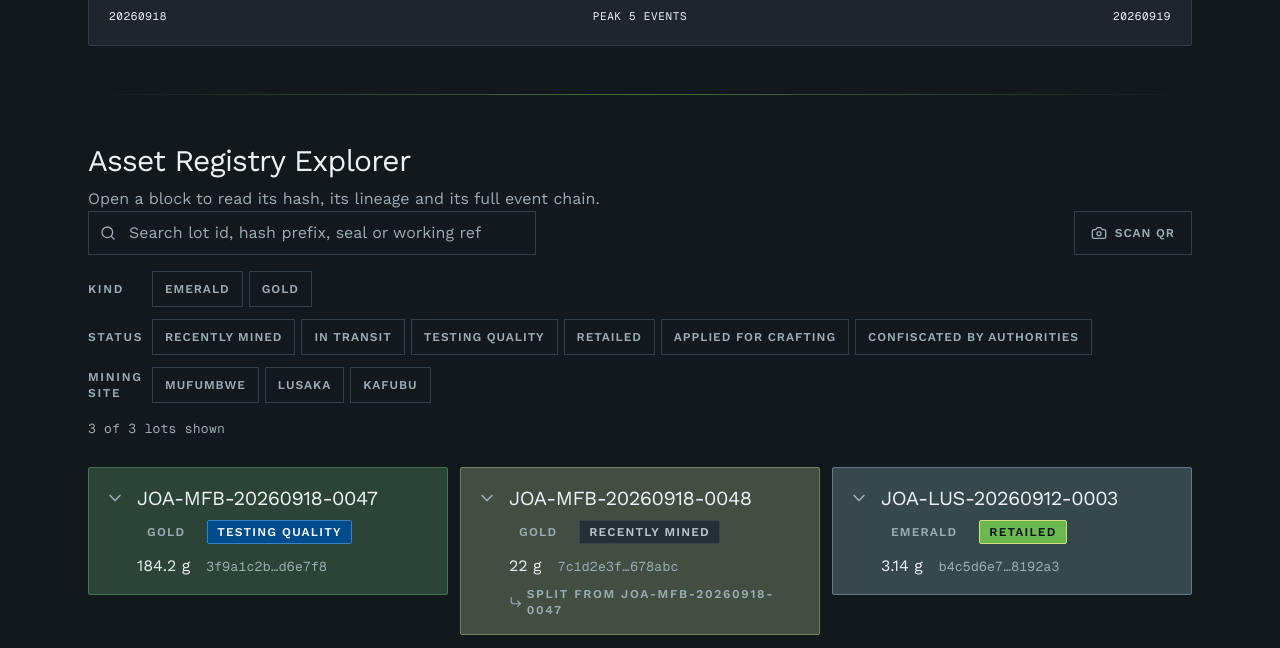
it: Library home page › clears an active chip when it is clicked a second time
This screenshot has width=1280, height=648.
(page scrolled)
Check: the text "JOA-MFB-20260918-0047" is shown, box [137,484,377,512]
Click the button with test id "register.filter.type.emerald" at {"x": 197, "y": 288}, box [152,270,243,306]
(page scrolled)
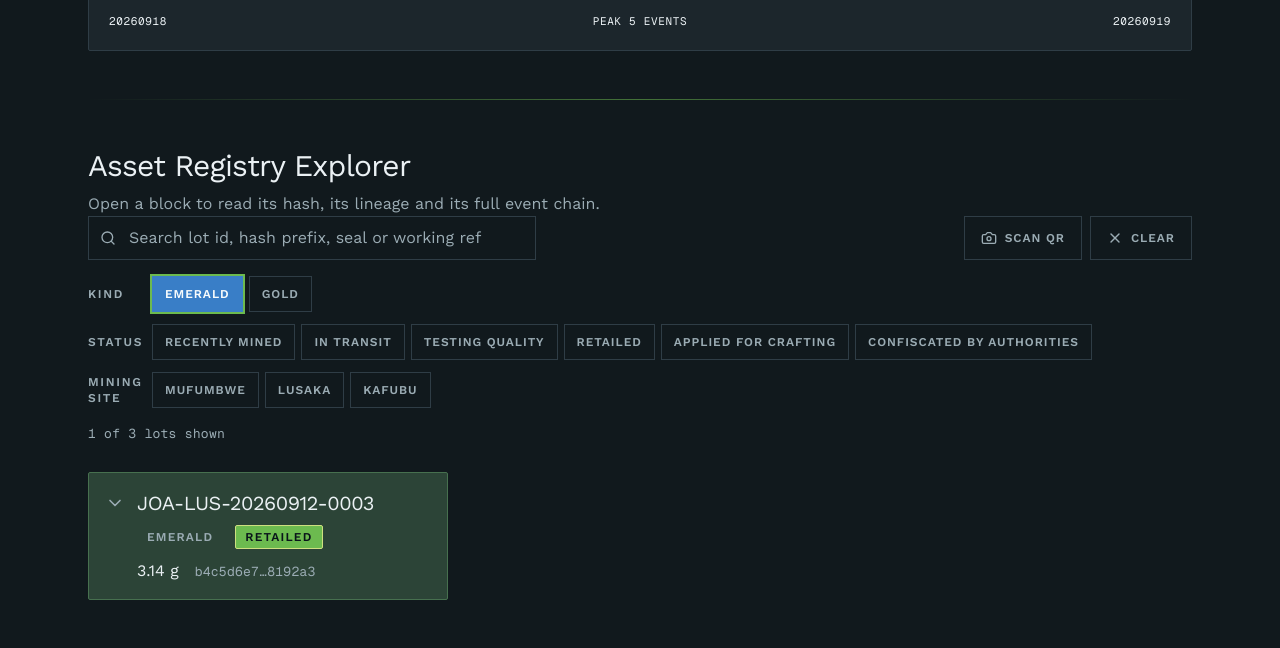
Check: the button with test id "register.filter.type.emerald" is pressed
A repeat click on the active value returns the filter to "all".
Click the button with test id "register.filter.type.emerald" at {"x": 197, "y": 294}, box [152,276,243,312]
(page scrolled)
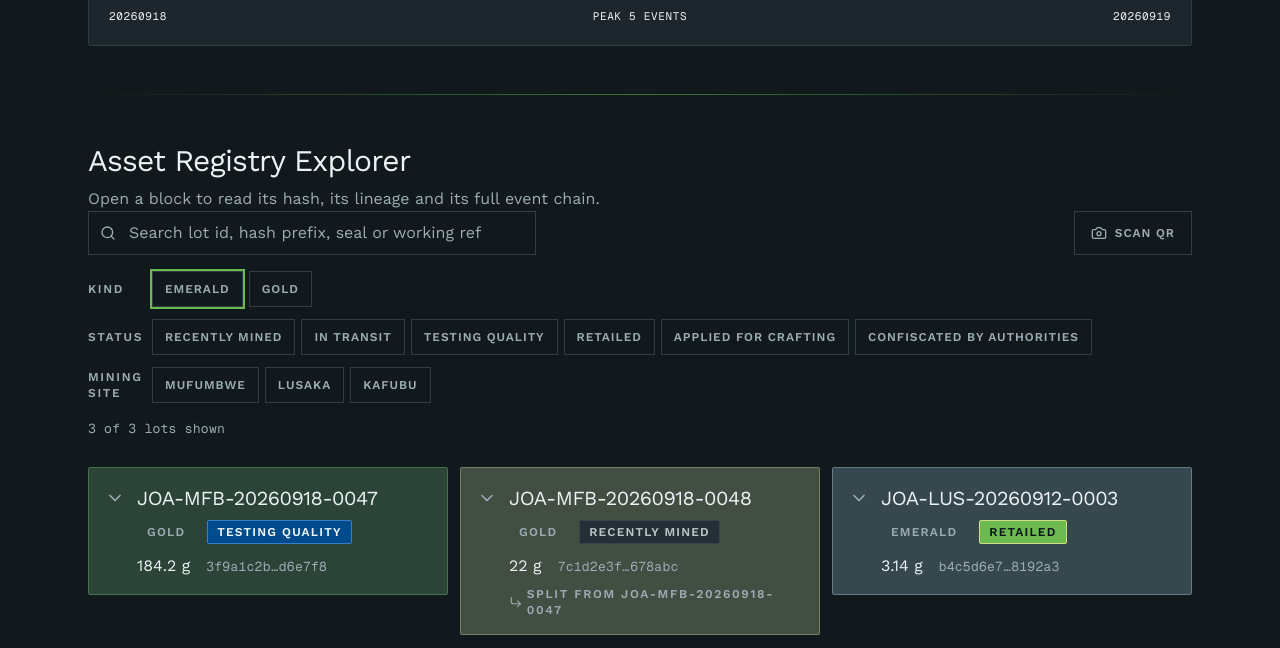
Check: the text with test id "register.result_count" reads "3 of 3 lots shown", box [88,420,225,436]
